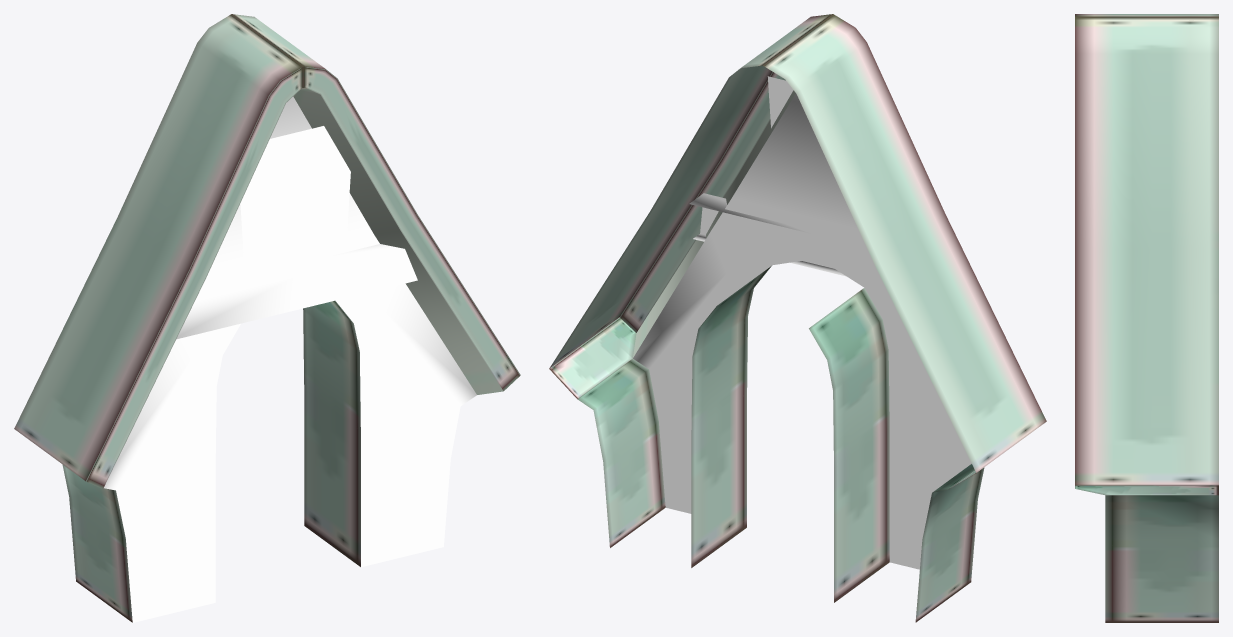
Rendered from HouseParts_wall.dae.
3 renders of one model, left to right at view 1: azimuth 30°, elevation 25°; view 2: azimuth 150°, elevation 25°; view 3: azimuth 270°, elevation 25°, orthographic.
Parts seen in each view (by area): view 1: HouseParts_wall; view 2: HouseParts_wall; view 3: HouseParts_wall.
Part boxes in pixels (x1,y1,x2,y2): HouseParts_wall: [14, 14, 520, 622]; HouseParts_wall: [549, 14, 1046, 622]; HouseParts_wall: [1075, 14, 1218, 622].
Size of the model in its own units: 66.5 by 77.35 by 19.
2 materials, 1 textured.
